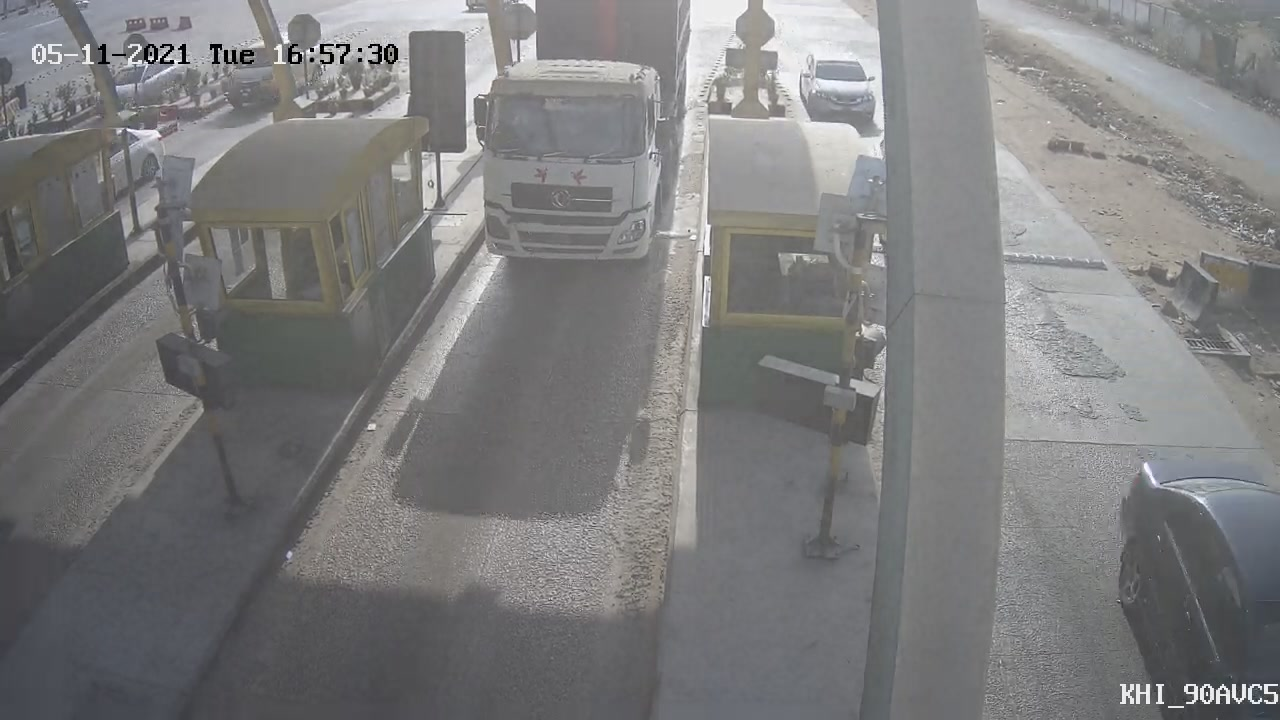F6: (446, 1, 716, 286)
